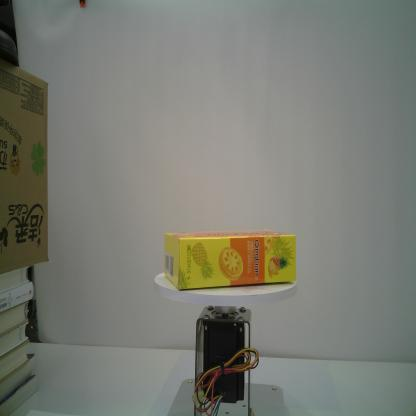Dessert: (163, 229, 298, 291)
